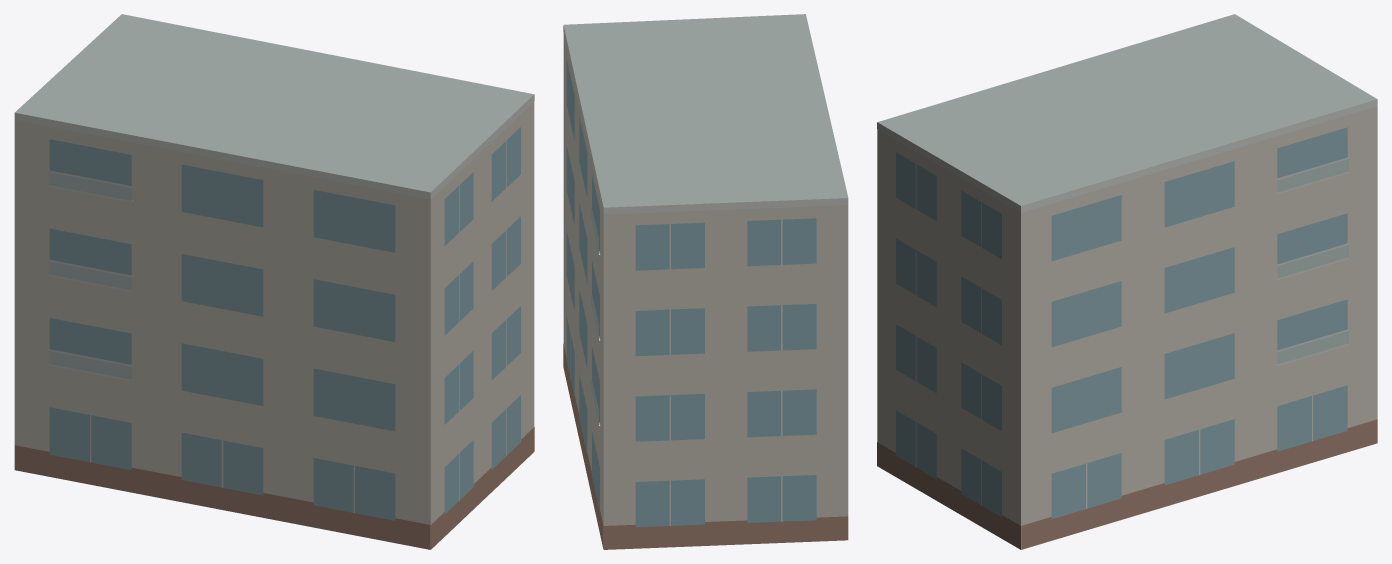
The model's file is survey-upis-32631160.glb.
The picture shows the model from 3 angles, left to right: view 1: azimuth 30°, elevation 25°; view 2: azimuth 150°, elevation 25°; view 3: azimuth 270°, elevation 25°; orthographic projection. The views are drawn at different scales.
Parts seen in each view (by area): view 1: survey-upis-32631160.tmp; view 2: survey-upis-32631160.tmp; view 3: survey-upis-32631160.tmp.
Part boxes in pixels (box(x1,y1,x2,y2)): survey-upis-32631160.tmp: box(14, 14, 534, 549); survey-upis-32631160.tmp: box(563, 14, 848, 549); survey-upis-32631160.tmp: box(877, 14, 1377, 549).
Size of the model in its own units: 14.61 by 12.2 by 16.1.
